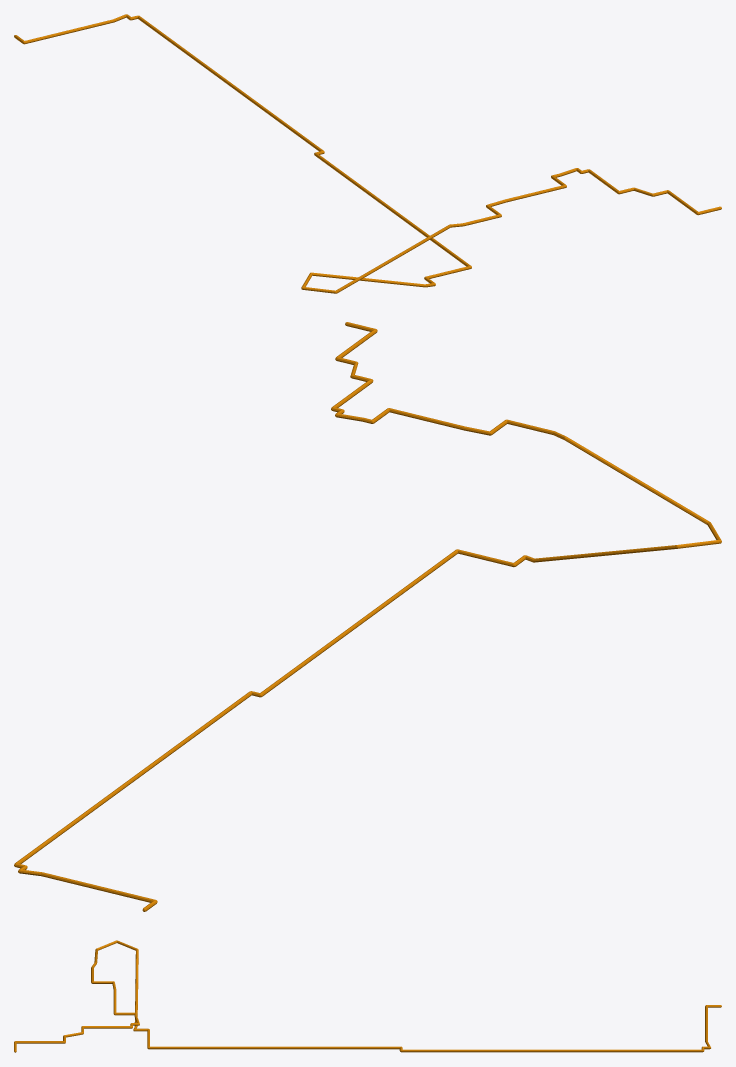
3 views of the same model, one above another, from view 1: azimuth 30°, elevation 25°; view 2: azimuth 150°, elevation 25°; view 3: azimuth 270°, elevation 25° (orthographic). The views are drawn at different scales.
Bounding box in the file's own units: 2406 × 520 × 5045.
